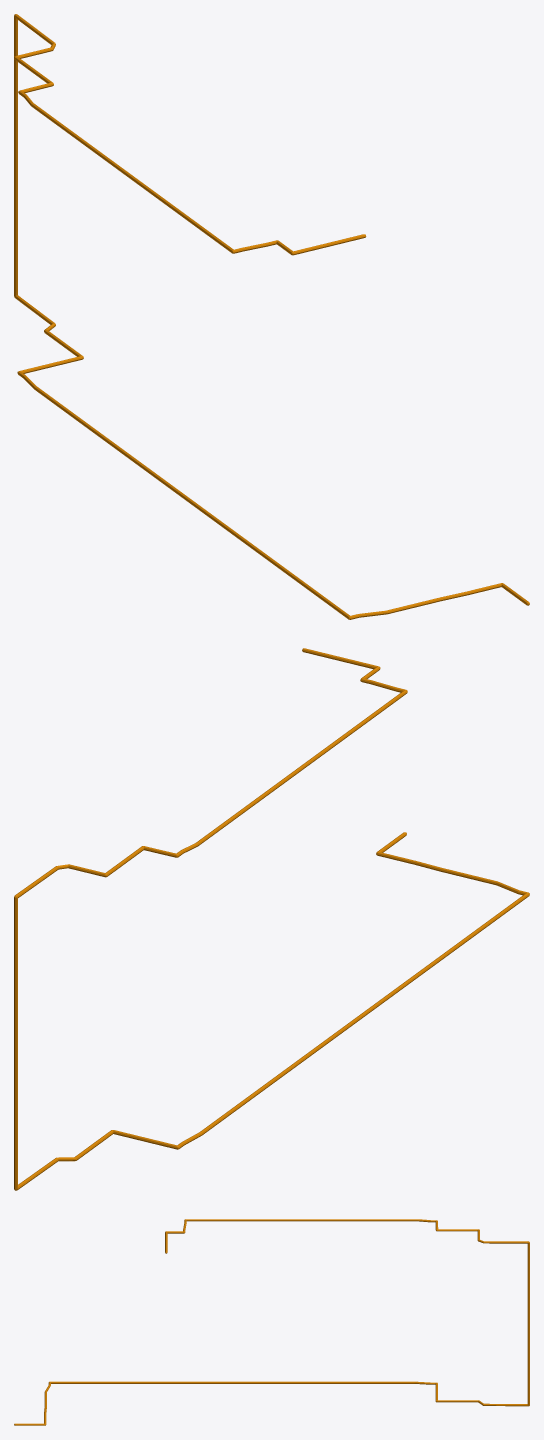
The picture shows the model from 3 angles, top to bottom: view 1: azimuth 30°, elevation 25°; view 2: azimuth 150°, elevation 25°; view 3: azimuth 270°, elevation 25°; orthographic projection. The views are drawn at different scales.
Size of the model in its own units: 849 by 1520 by 4315.
